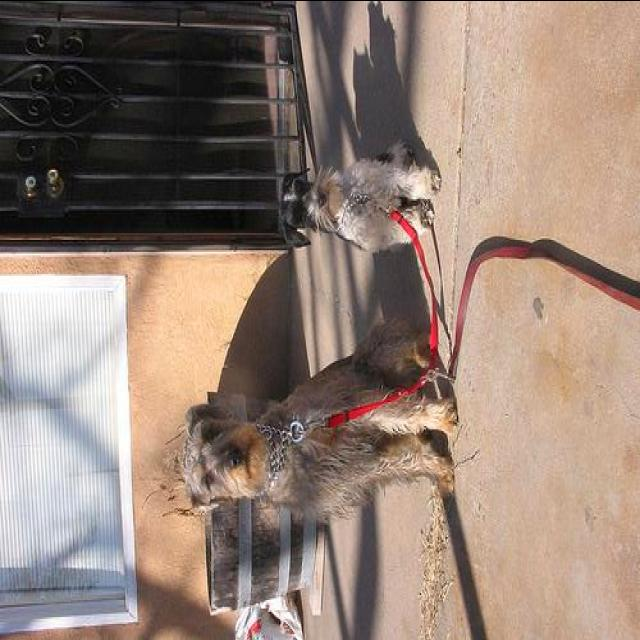standard_schnauzer: (175, 330, 468, 526), (273, 147, 439, 251)
